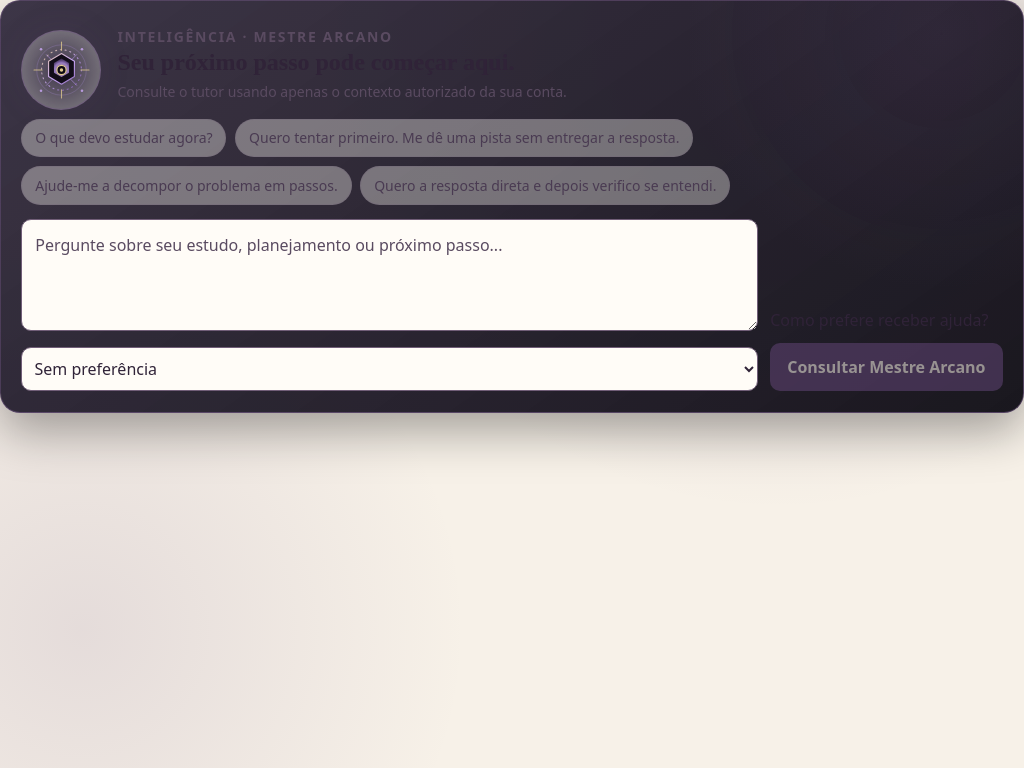
Test case: MestreArcanoPanel › permite escolher resposta direta para uma pergunta personalizada
The width and height of the screenshot is (1024, 768).
In the text box named "Mensagem para o Mestre Arcano": (390, 275) [22,219,758,331], type "Qual é a definição?"
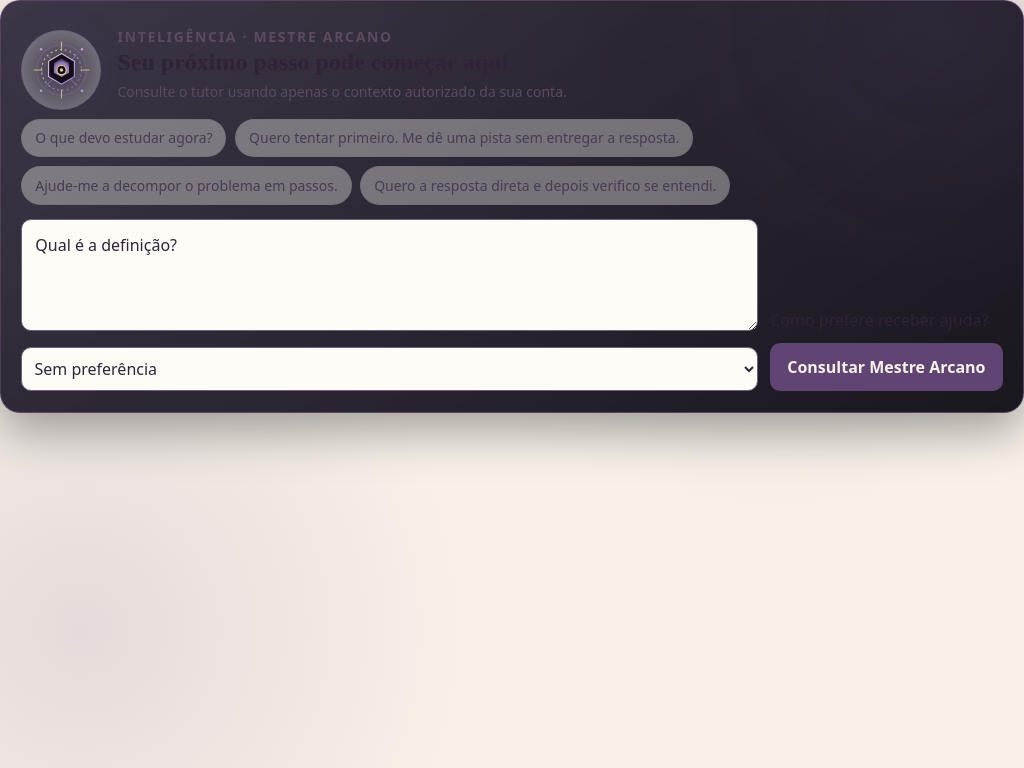
Select "Resposta direta" in the dropdown labelled "Como prefere receber ajuda?": (390, 369) [22,347,758,391]
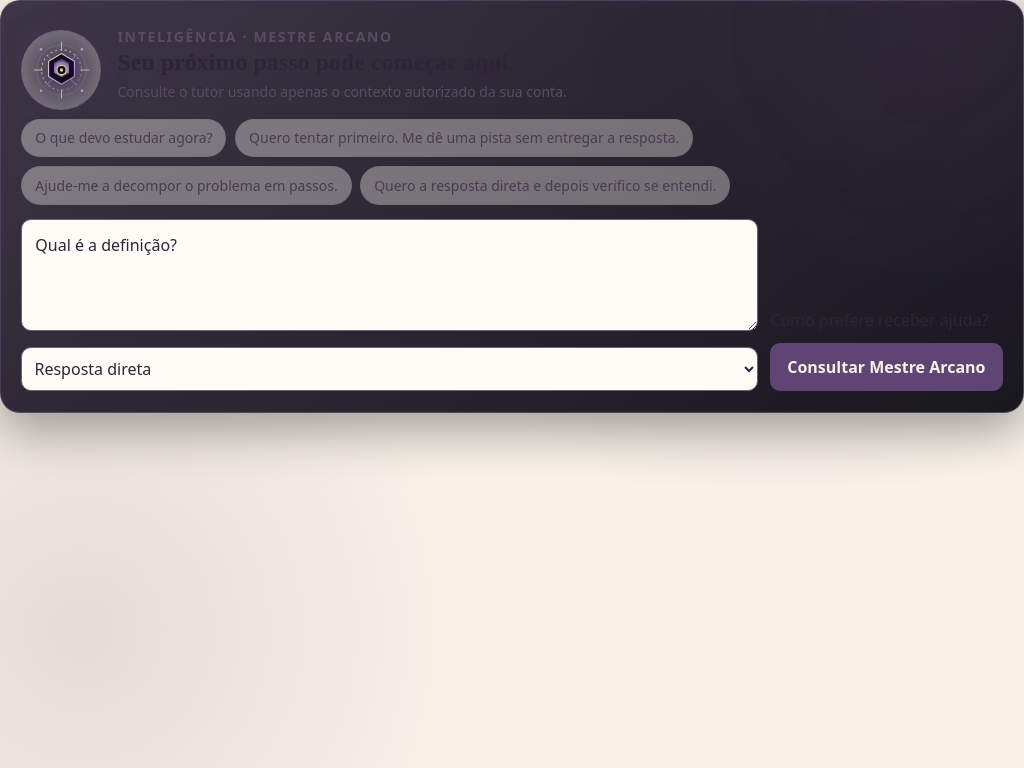
Click the button "Consultar Mestre Arcano": (886, 367) [770,343,1003,391]
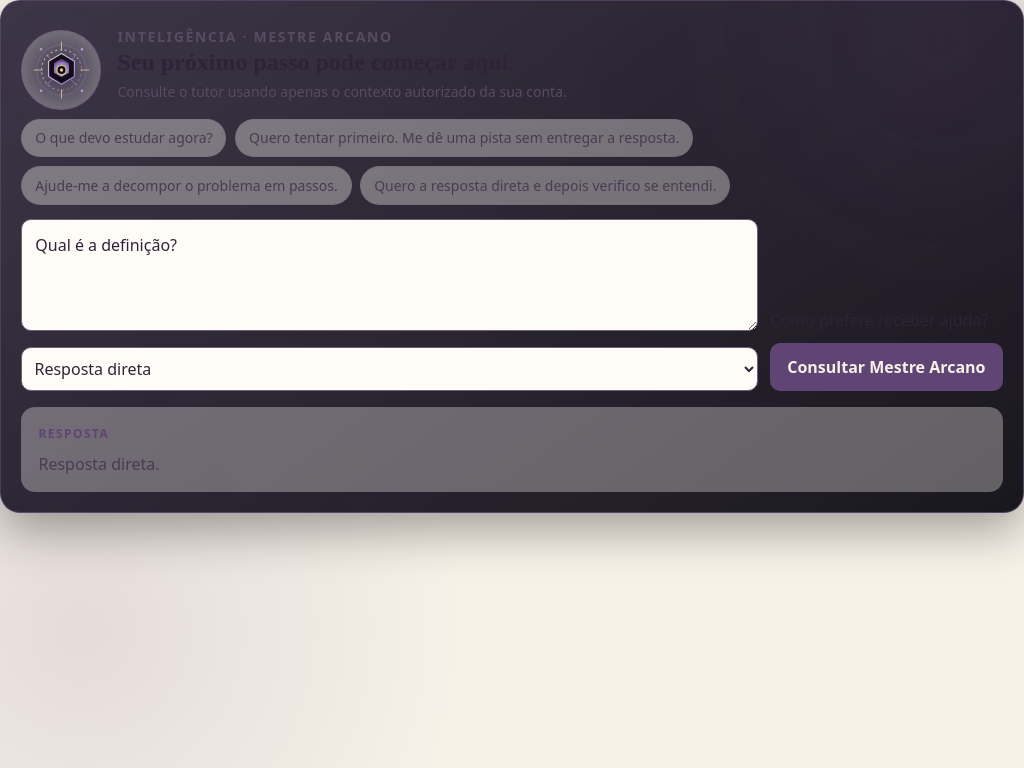
Now the text "Resposta direta." is shown, box [38,453,160,475]
